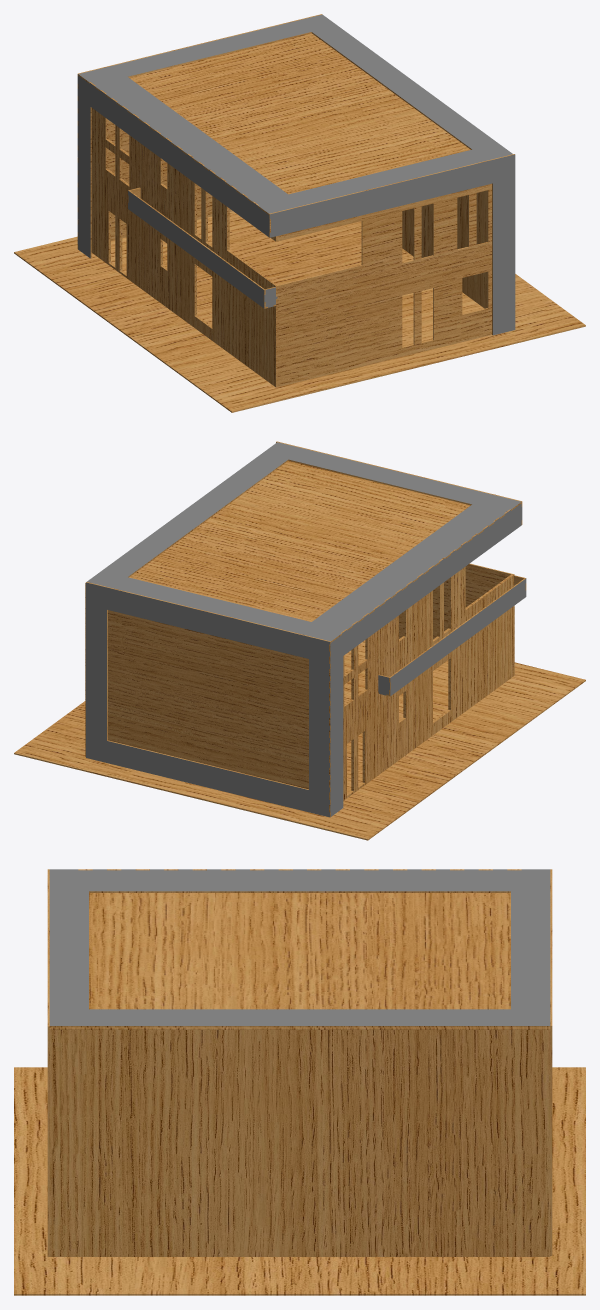
The model's file is smart-home.gltf.
3 renders of one model, top to bottom at view 1: azimuth 30°, elevation 25°; view 2: azimuth 150°, elevation 25°; view 3: azimuth 270°, elevation 25°, orthographic. The views are drawn at different scales.
Parts seen in each view (by area): view 1: the final; view 2: the final; view 3: the final.
Part boxes in pixels (x1,y1,x2,y2): the final: (14, 14, 585, 412); the final: (14, 441, 585, 840); the final: (14, 869, 585, 1295).
Size of the model in its own units: 0.75 by 0.3581 by 0.8.
Materials: 3 (1 with a texture image).
